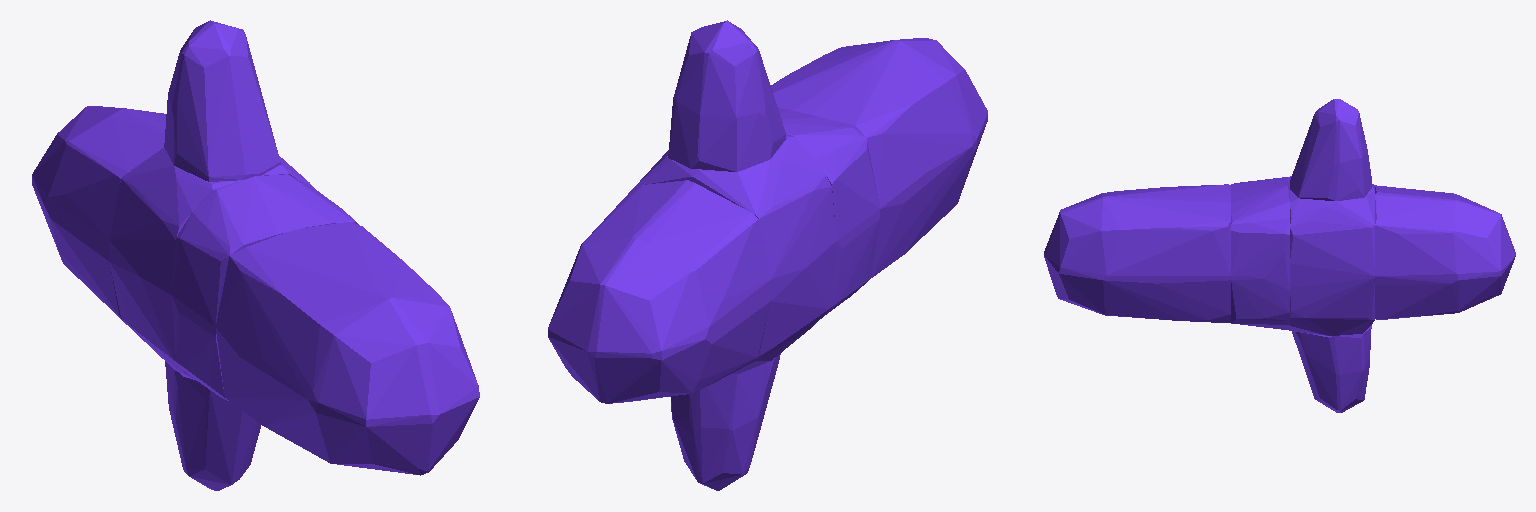
robot.urdf — blob425:
<robot name="blob425">
  <link name="random_obj_425">
    <contact>
      <lateral_friction value="1.0"/>
      <rolling_friction value="0.0"/>
      <inertia_scaling value="3.0"/>
      <contact_cfm value="0.0"/>
      <contact_erp value="1.0"/>
    </contact>
    <inertial>
      <origin rpy="0 0 0" xyz="0 0 0"/>
      <mass value="0.1"/>
      <inertia ixx="1" ixy="0" ixz="0" iyy="1" iyz="0" izz="0"/>
    </inertial>
    <visual>
      <origin rpy="0 0 0" xyz="0 0 0"/>
      <geometry>
        <mesh filename="425.obj" scale="0.015 0.015 0.015"/>
      </geometry>
      <material name="blockmat">
        <color rgba="0.50 0.30 0.94 1"/>
      </material>
    </visual>
    <collision>
      <origin rpy="0 0 0" xyz="0 0 0"/>
      <geometry>
        <mesh filename="425.obj" scale="0.015 0.015 0.015"/>
      </geometry>
    </collision>
  </link>
</robot>

--- Facts derived from the render (not from the file) ---
Views: 3 orthographic renders of the robot side by side, from view 1: azimuth 30°, elevation 25°; view 2: azimuth 150°, elevation 25°; view 3: azimuth 270°, elevation 25°.
Robot: blob425 — 1 links, 0 joints (none); root link random_obj_425; default pose: every joint at zero.
Links seen in each view (by area): view 1: random_obj_425; view 2: random_obj_425; view 3: random_obj_425.
Link boxes in pixels (bbox=[...]): random_obj_425: bbox=[32, 20, 479, 490]; random_obj_425: bbox=[548, 20, 987, 490]; random_obj_425: bbox=[1044, 99, 1515, 412].
Size in the robot's own frame: 0.0308 by 0.1218 by 0.0892 metres.
1 mesh visuals loaded from 1 distinct referenced files (1 OBJ).